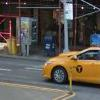Car: (38, 42, 100, 93)
